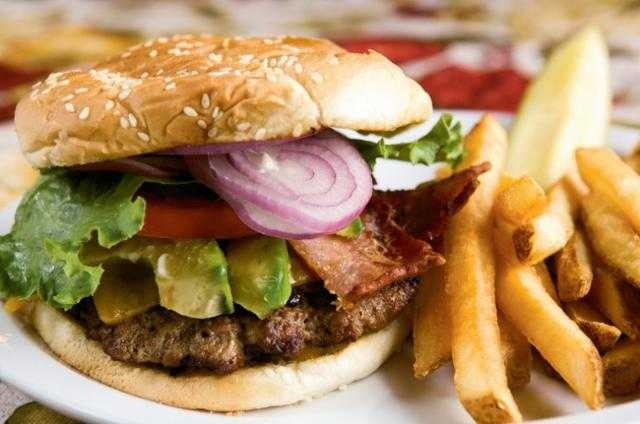hamburger: (10, 27, 494, 386)
